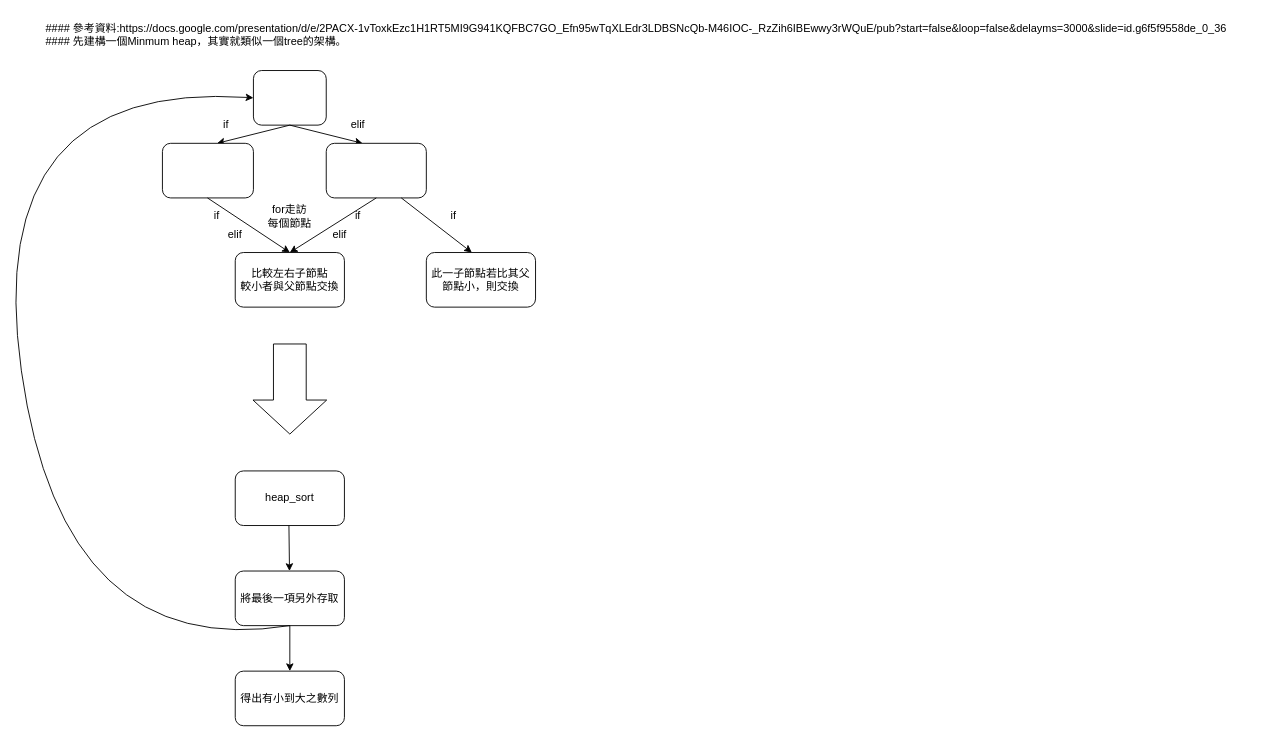
The diagram is 1261 pixels wide and 742 high, and some of its shapes have lost their labels. The shapes that lost their labels are listed below. From the top down, each one's box as (x1, y1, x2, y2) in pixels, then its label:
(253, 70, 326, 125): Minheap
(162, 142, 253, 198): 皆有兩個子節點
(325, 142, 426, 198): 存在一個子節點
